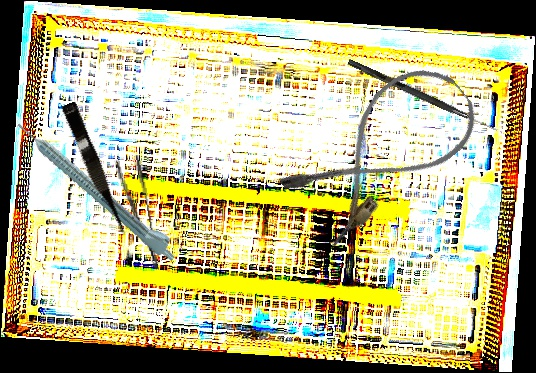Cannula: (274, 50, 491, 251)
Dressing Forceps: (114, 154, 161, 275)
Handpiece: (13, 112, 184, 265)
Hook Surgical: (346, 58, 500, 134)
Micro Scissor: (57, 100, 132, 241)
